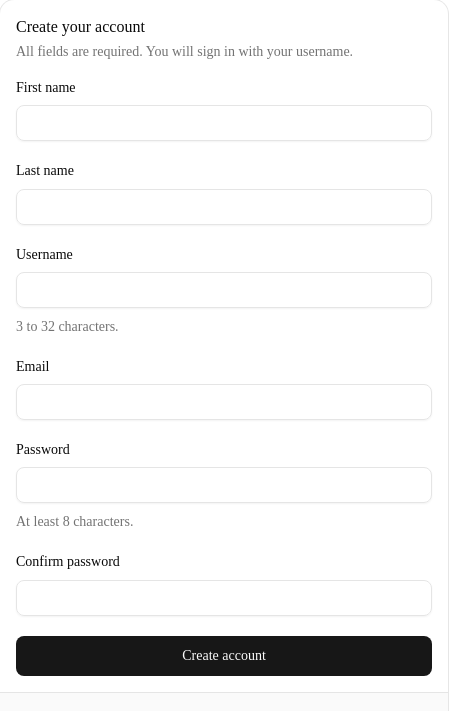
Scenario: RegisterForm › shows a server field error against the matching field
This screenshot has width=466, height=711.
Type "Ada" into the field labelled "First name" at (224, 123), box [16,105,432,141]
Type "Lovelace" into the field labelled "Last name" at (224, 206), box [16,188,432,224]
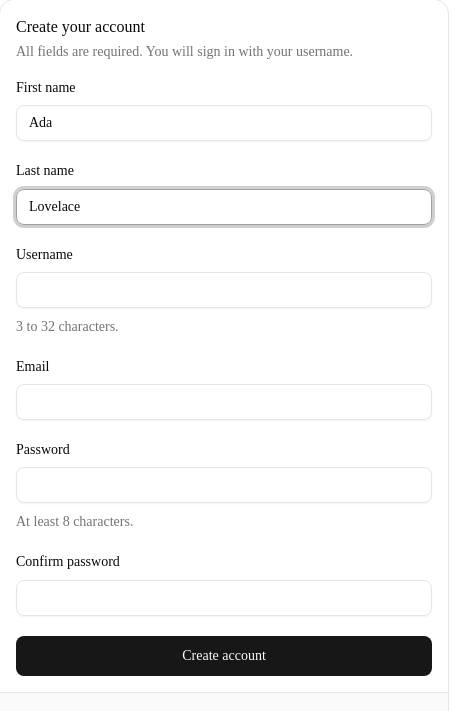
Type "ada" into the field labelled "Username" at (224, 290), box [16,272,432,308]
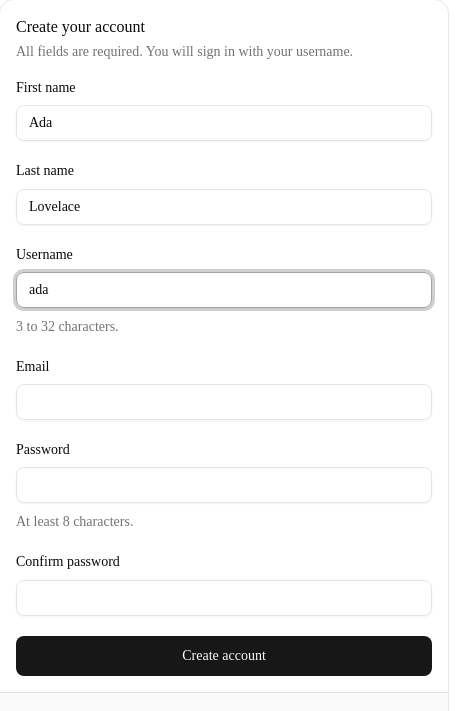
Type "ada@example.com" into the field labelled "Email" at (224, 402), box [16,384,432,420]
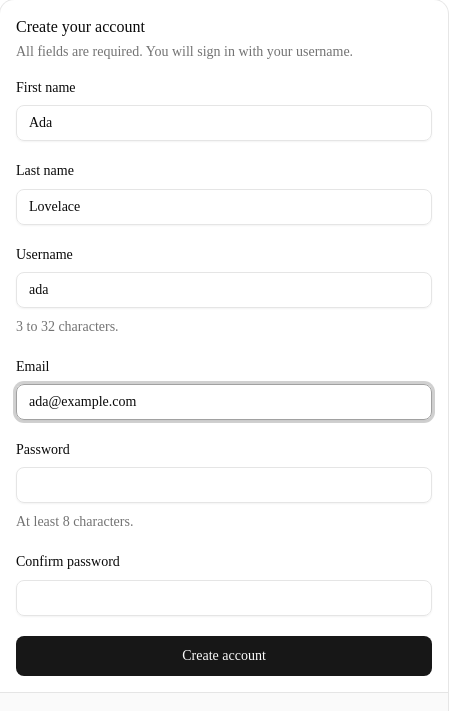
Type "correct horse battery" into the password field labelled "Password" at (224, 485), box [16,467,432,503]
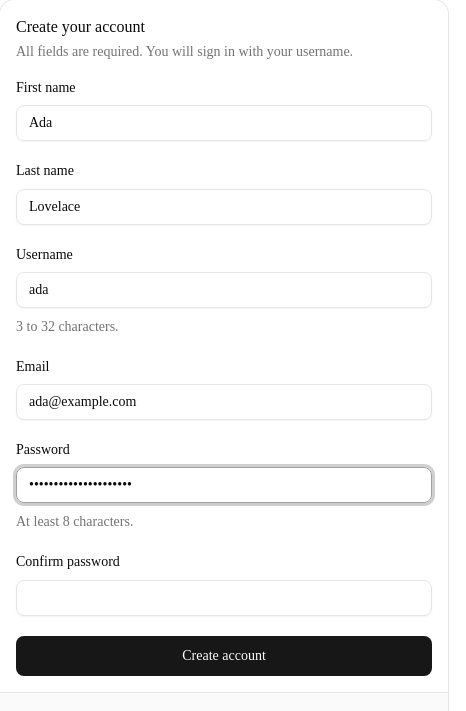
Type "correct horse battery" into the password field labelled "Confirm password" at (224, 598), box [16,580,432,616]
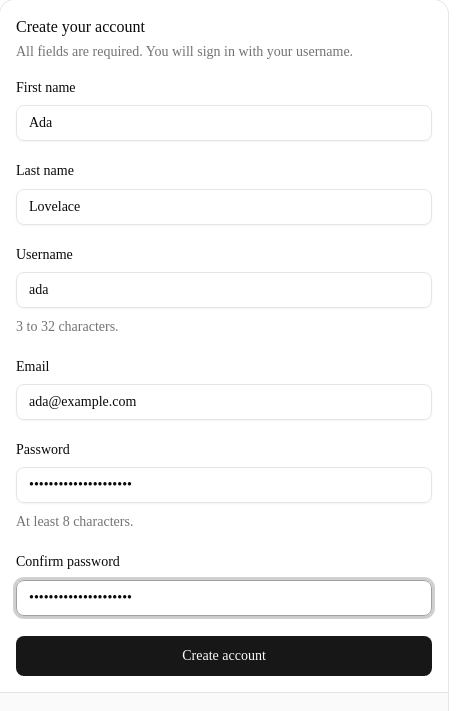
Click the button "Create account" at (224, 656), box [16,636,432,676]
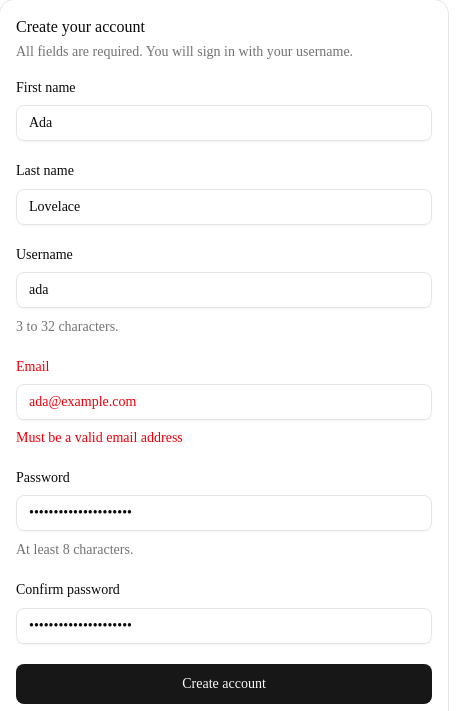
Expected: the text "Must be a valid email address" is shown, [16,430,183,445]
